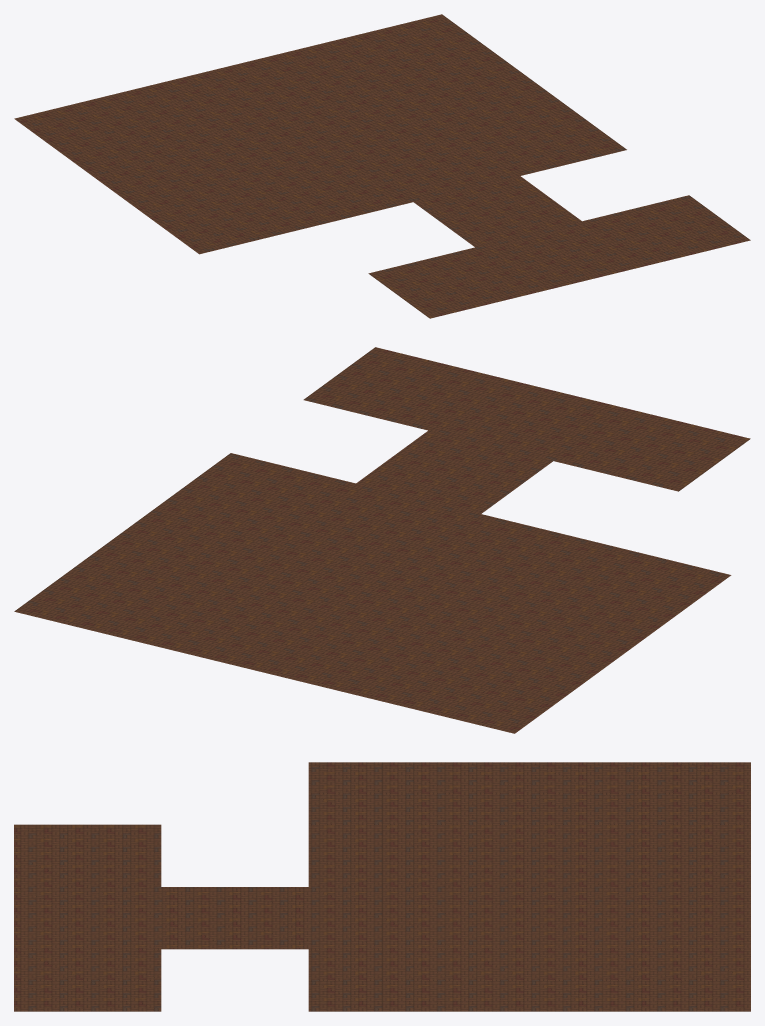
The model's file is Vin_groundCombine.fbx.
3 renders of one model, top to bottom at view 1: azimuth 30°, elevation 25°; view 2: azimuth 150°, elevation 25°; view 3: azimuth 270°, elevation 25°, orthographic. The views are drawn at different scales.
Visible parts, largest first — view 1: Vin_ground; view 2: Vin_ground; view 3: Vin_ground.
Part boxes in pixels (x1,y1,x2,y2): Vin_ground: [14, 14, 750, 318]; Vin_ground: [14, 347, 750, 733]; Vin_ground: [14, 762, 750, 1011].
Size of the model in its own units: 9600 by 8.34e-05 by 12000.
1 material, 1 textured.
